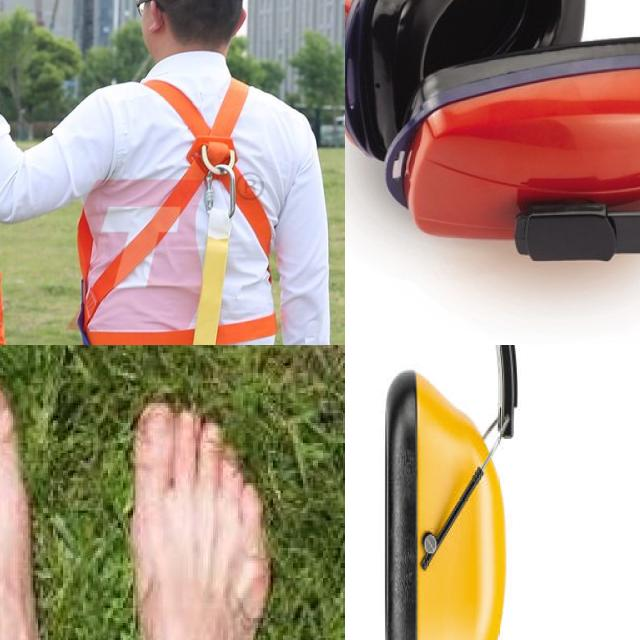Barefoots: (124, 390, 317, 640)
Ear-protection: (345, 345, 537, 640), (377, 30, 640, 244), (345, 0, 593, 164)
Harness: (71, 68, 292, 345)
